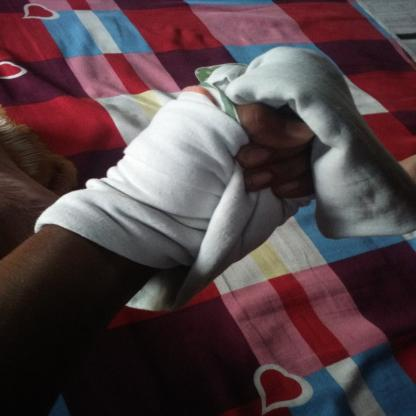gloved_hand: (27, 46, 414, 320)
